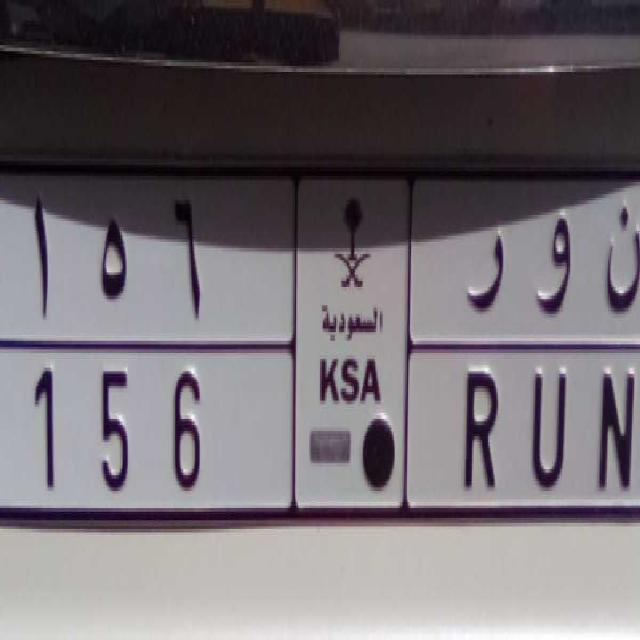license_plate: (1, 335, 640, 537)
